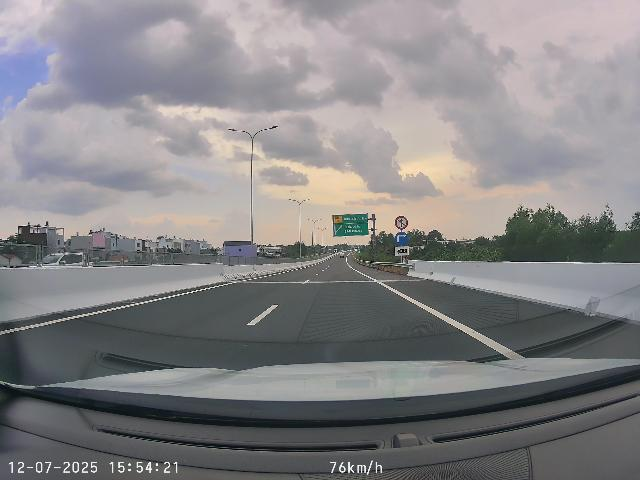136-cam-di-thang: (395, 216, 408, 230)
301d-cac-xe-chi-duoc-re-phai-2: (395, 231, 409, 245)
